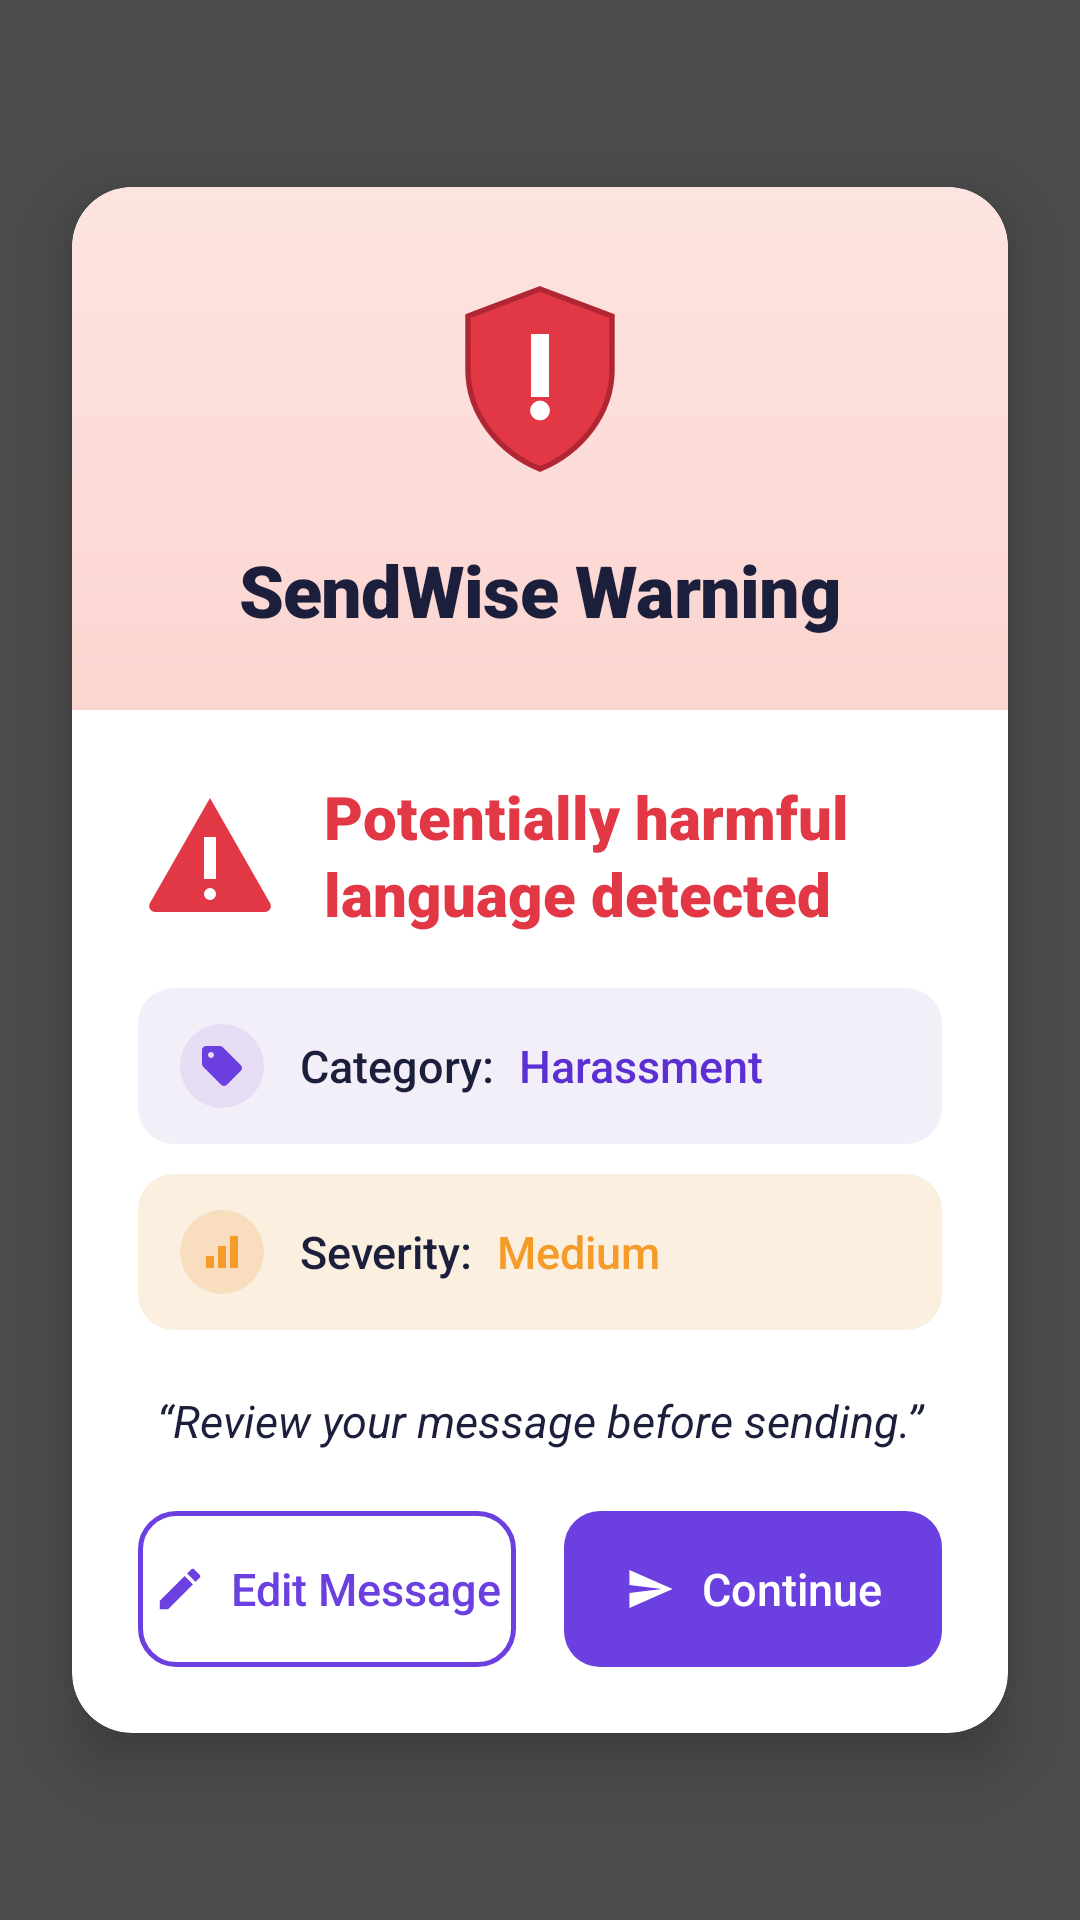

Icons on this 1080x1920 Android screen, each with its box as [left=x1, top=y1, right=x2, bottom=y2]:
pencil: [left=159, top=1568, right=201, bottom=1610]
tag: [left=202, top=1046, right=242, bottom=1086]
